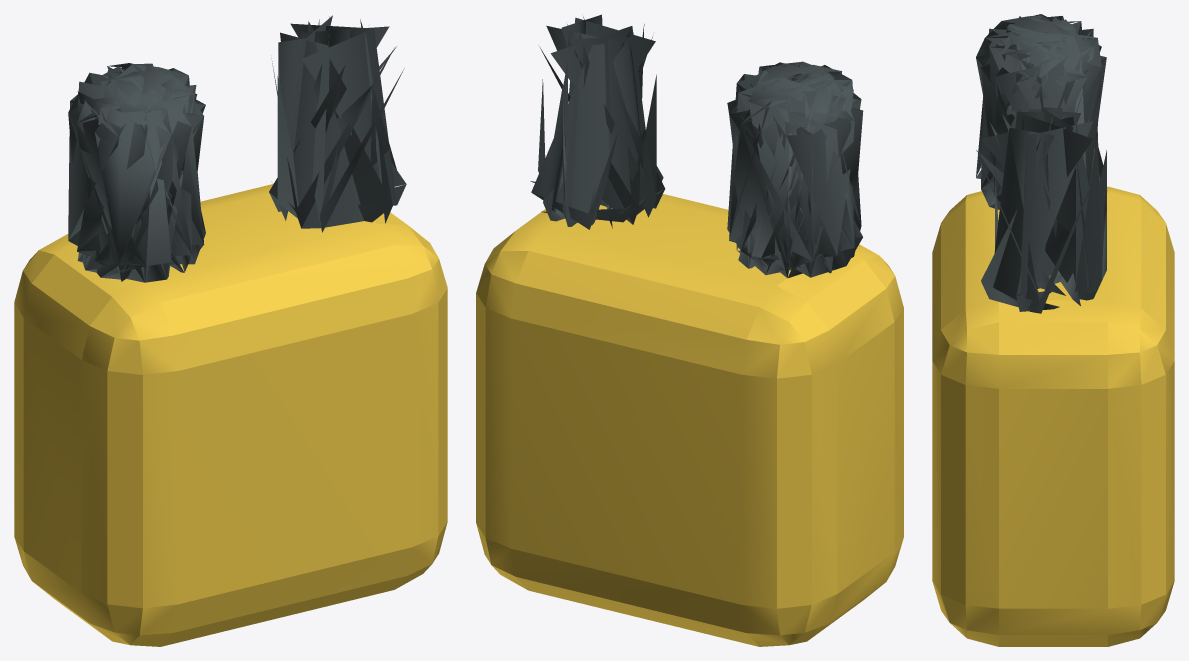
Rendered from kit_ranger.glb.
3 renders of one model, left to right at view 1: azimuth 30°, elevation 25°; view 2: azimuth 150°, elevation 25°; view 3: azimuth 270°, elevation 25°, orthographic. The views are drawn at different scales.
Visible parts, largest first — view 1: SpotterPack, SpareOptic, SpareOptic.001; view 2: SpotterPack, SpareOptic, SpareOptic.001; view 3: SpotterPack, SpareOptic.001, SpareOptic.
Boxes of the visible parts, x1=… form: SpotterPack: x1=14, y1=184, x2=447, y2=646; SpareOptic: x1=68, y1=63, x2=205, y2=282; SpareOptic.001: x1=269, y1=15, x2=406, y2=232; SpotterPack: x1=476, y1=194, x2=903, y2=646; SpareOptic: x1=727, y1=61, x2=863, y2=278; SpareOptic.001: x1=530, y1=14, x2=665, y2=229; SpotterPack: x1=932, y1=186, x2=1174, y2=646; SpareOptic.001: x1=976, y1=107, x2=1106, y2=313; SpareOptic: x1=976, y1=14, x2=1106, y2=209.
Bounding box in the file's own units: 0.32 × 0.465 × 0.2.
